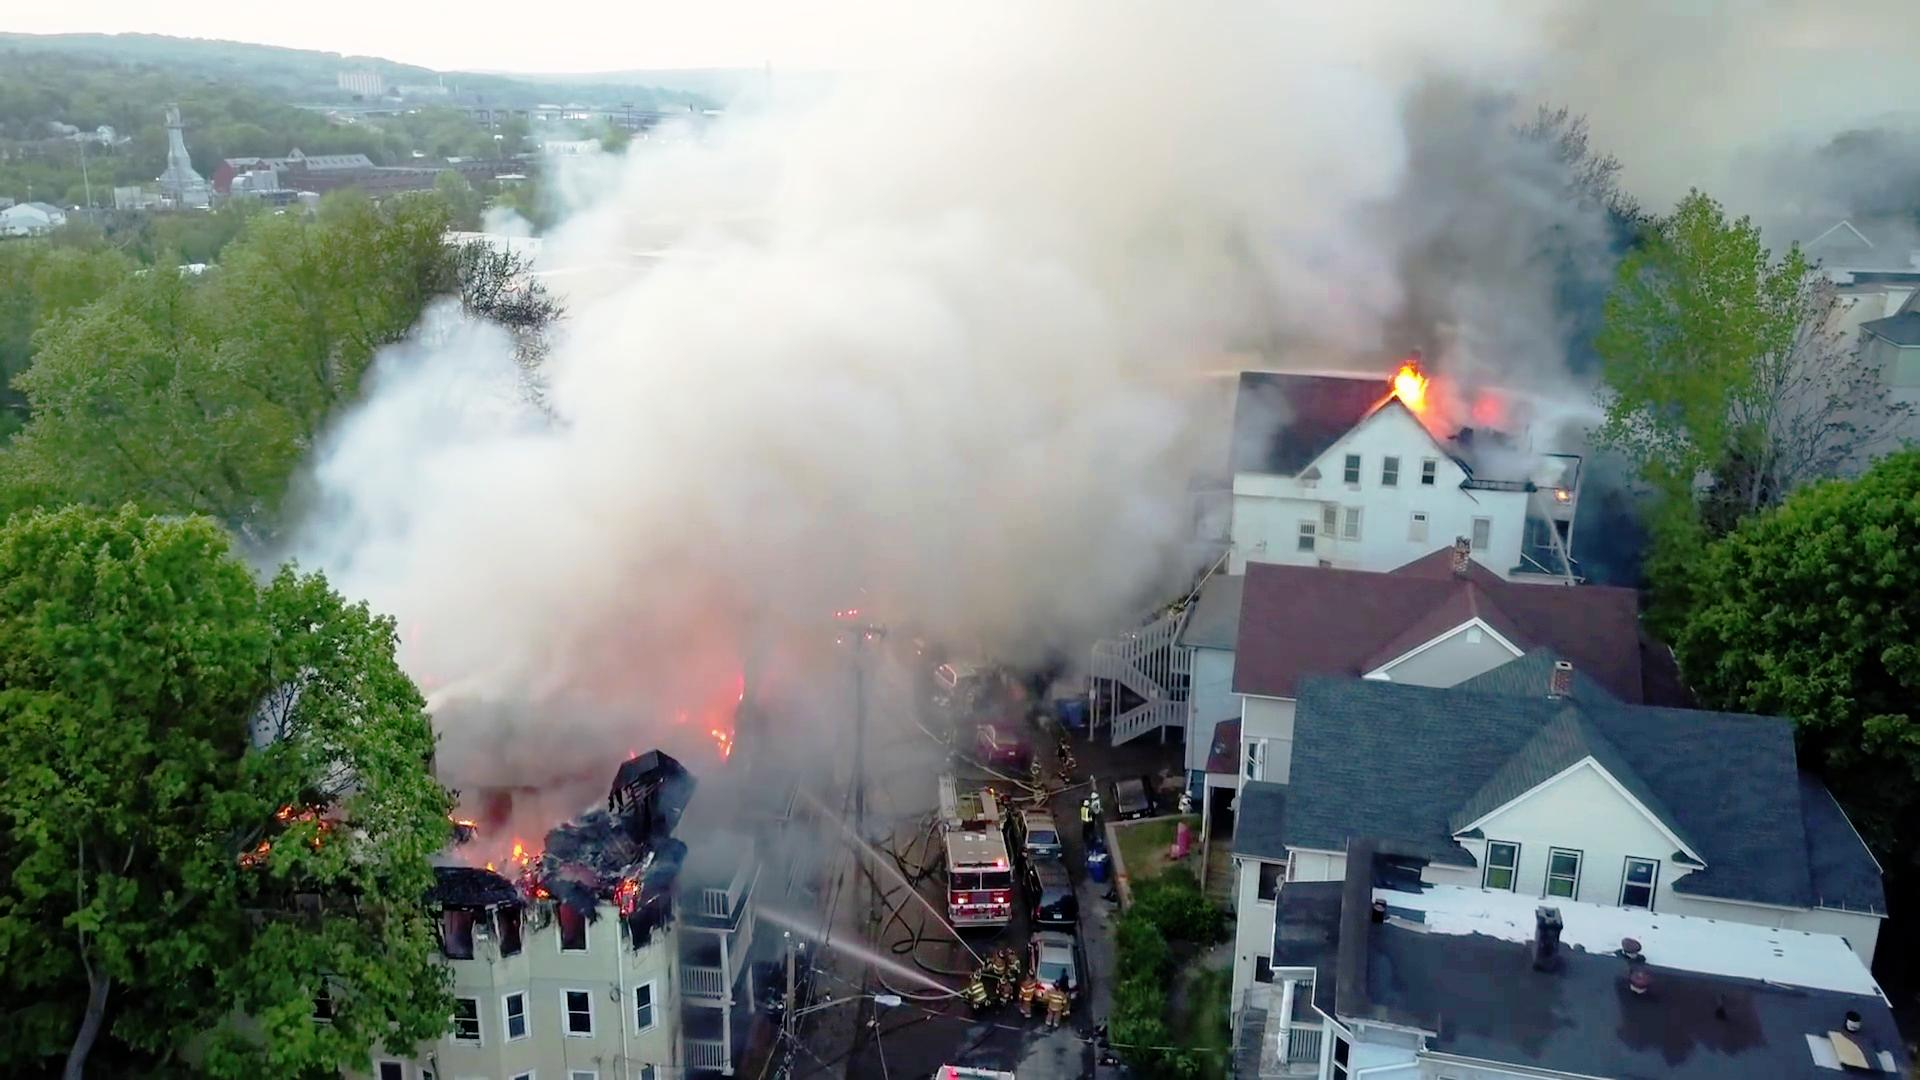smoke: (527, 338, 989, 662)
